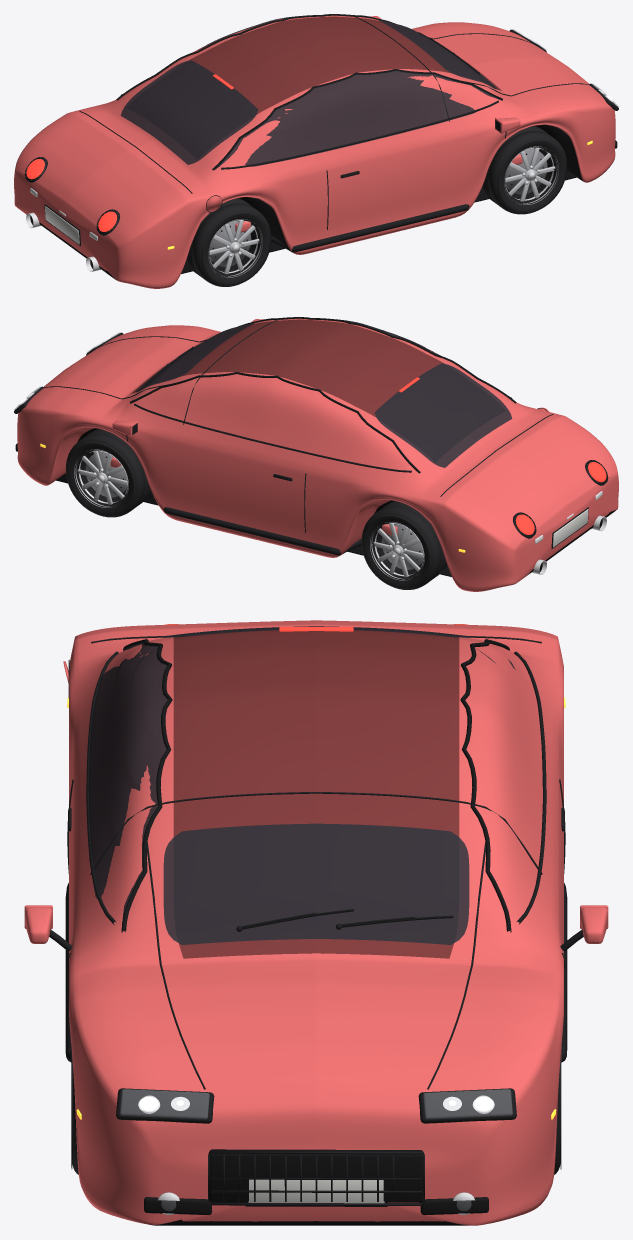
The picture shows the model from 3 angles, top to bottom: view 1: azimuth 30°, elevation 25°; view 2: azimuth 150°, elevation 25°; view 3: azimuth 270°, elevation 25°; orthographic projection. The views are drawn at different scales.
Parts seen in each view (by area): view 1: body, glass_side_R, glass_screen_1, wheel_RR_tyre, wheel_FR_tyre, glass_screen_0, side_skirt, seal_R, belt_trim, seal_L, wheel_RR_disc, wheel_FR_disc (+4 smaller); view 2: body, glass_screen_1, wheel_RL_tyre, wheel_FL_tyre, glass_screen_0, side_skirt.001, seal_L, belt_trim.001, seal_R, wheel_RL_disc, wheel_FL_disc, wheel_FL_barrel (+3 smaller); view 3: body, glass_screen_0, glass_side_R, grille_back, plate_front, head_housing.001, head_housing, head_lens, head_lens.001, seal_L, seal_R, belt_trim.001 (+7 smaller).
Boxes of the visible parts, left/top/right/bottom form: body: left=14, top=15, right=615, bottom=288; glass_side_R: left=215, top=70, right=500, bottom=169; glass_screen_1: left=120, top=60, right=258, bottom=164; wheel_RR_tyre: left=186, top=198, right=271, bottom=286; wheel_FR_tyre: left=482, top=126, right=567, bottom=214; glass_screen_0: left=378, top=20, right=497, bottom=89; side_skirt: left=271, top=204, right=469, bottom=252; seal_R: left=212, top=69, right=502, bottom=170; belt_trim: left=221, top=100, right=498, bottom=169; seal_L: left=116, top=14, right=395, bottom=100; wheel_RR_disc: left=209, top=221, right=251, bottom=266; wheel_FR_disc: left=505, top=148, right=547, bottom=194; body: left=17, top=318, right=618, bottom=591; glass_screen_1: left=374, top=363, right=512, bottom=467; wheel_RL_tyre: left=361, top=501, right=446, bottom=589; wheel_FL_tyre: left=65, top=429, right=150, bottom=517; glass_screen_0: left=135, top=323, right=254, bottom=392; side_skirt.001: left=163, top=507, right=361, bottom=555; seal_L: left=130, top=372, right=420, bottom=473; belt_trim.001: left=134, top=404, right=411, bottom=472; seal_R: left=238, top=317, right=516, bottom=403; wheel_RL_disc: left=381, top=524, right=423, bottom=569; wheel_FL_disc: left=85, top=451, right=127, bottom=497; wheel_FL_barrel: left=76, top=450, right=127, bottom=505; body: left=69, top=620, right=563, bottom=1225; glass_screen_0: left=163, top=823, right=469, bottom=944; glass_side_R: left=88, top=642, right=167, bottom=931; grille_back: left=208, top=1149, right=424, bottom=1202; plate_front: left=248, top=1179, right=384, bottom=1203; head_housing.001: left=418, top=1088, right=516, bottom=1123; head_housing: left=116, top=1088, right=214, bottom=1123; head_lens: left=120, top=1089, right=209, bottom=1119; head_lens.001: left=423, top=1089, right=512, bottom=1119; seal_L: left=460, top=639, right=511, bottom=932; seal_R: left=121, top=639, right=172, bottom=932; belt_trim.001: left=514, top=651, right=546, bottom=924.
Size of the model in its own units: 4.21 by 1.28 by 2.05.
